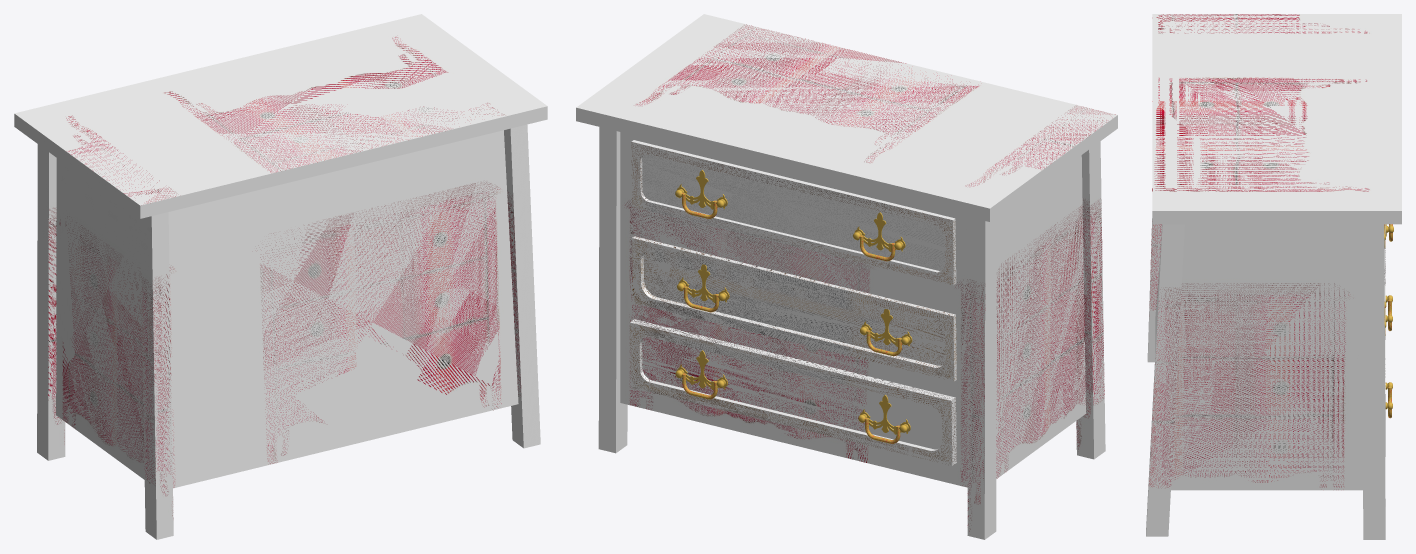
The picture shows the model from 3 angles, left to right: view 1: azimuth 30°, elevation 25°; view 2: azimuth 150°, elevation 25°; view 3: azimuth 270°, elevation 25°; orthographic projection. The views are drawn at different scales.
Parts seen in each view (by area): view 1: mesh25_mesh25-geometry, mesh26_mesh26-geometry, mesh27_mesh27-geometry, mesh24_mesh24-geometry; view 2: mesh25_mesh25-geometry, mesh32_mesh32-geometry, mesh24_mesh24-geometry, mesh28_mesh28-geometry, mesh26_mesh26-geometry, mesh18_mesh18-geometry, mesh1_mesh1-geometry; view 3: mesh25_mesh25-geometry, mesh27_mesh27-geometry, mesh28_mesh28-geometry, mesh26_mesh26-geometry, mesh1_mesh1-geometry.
Boxes of the visible parts, x1,y1,x2,y2 form: mesh25_mesh25-geometry: (14,14,547,488); mesh26_mesh26-geometry: (140,212,173,539); mesh27_mesh27-geometry: (504,124,540,448); mesh24_mesh24-geometry: (37,144,65,460); mesh25_mesh25-geometry: (576,14,1117,487); mesh32_mesh32-geometry: (631,140,956,285); mesh24_mesh24-geometry: (967,217,996,539); mesh28_mesh28-geometry: (598,127,627,453); mesh26_mesh26-geometry: (1076,141,1105,459); mesh18_mesh18-geometry: (677,170,912,434); mesh1_mesh1-geometry: (682,193,901,443); mesh25_mesh25-geometry: (1152,14,1401,490); mesh27_mesh27-geometry: (1146,224,1184,536); mesh28_mesh28-geometry: (1362,224,1385,539); mesh26_mesh26-geometry: (1147,218,1162,362); mesh1_mesh1-geometry: (1384,224,1392,418).
Size of the model in its own units: 0.7194 by 0.5717 by 0.3946.
